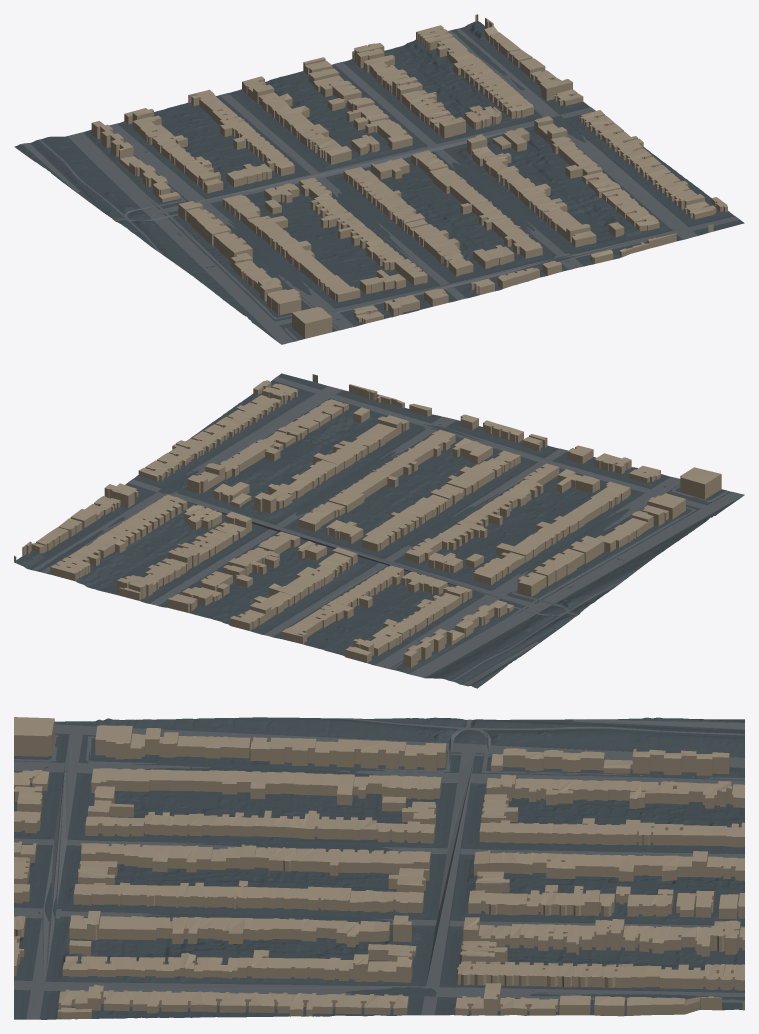
Rendered from epsg26910-1415-10879.lod0.glb.
3 renders of one model, top to bottom at view 1: azimuth 30°, elevation 25°; view 2: azimuth 150°, elevation 25°; view 3: azimuth 270°, elevation 25°, orthographic. The views are drawn at different scales.
Visible parts, largest first — view 1: epsg26910-1415-10879-lod0; view 2: epsg26910-1415-10879-lod0; view 3: epsg26910-1415-10879-lod0.
Boxes of the visible parts, left/top/right/bottom form: epsg26910-1415-10879-lod0: left=14, top=14, right=744, bottom=344; epsg26910-1415-10879-lod0: left=14, top=373, right=744, bottom=688; epsg26910-1415-10879-lod0: left=14, top=717, right=744, bottom=1019.
Size of the model in its own units: 384 by 19.77 by 384.
